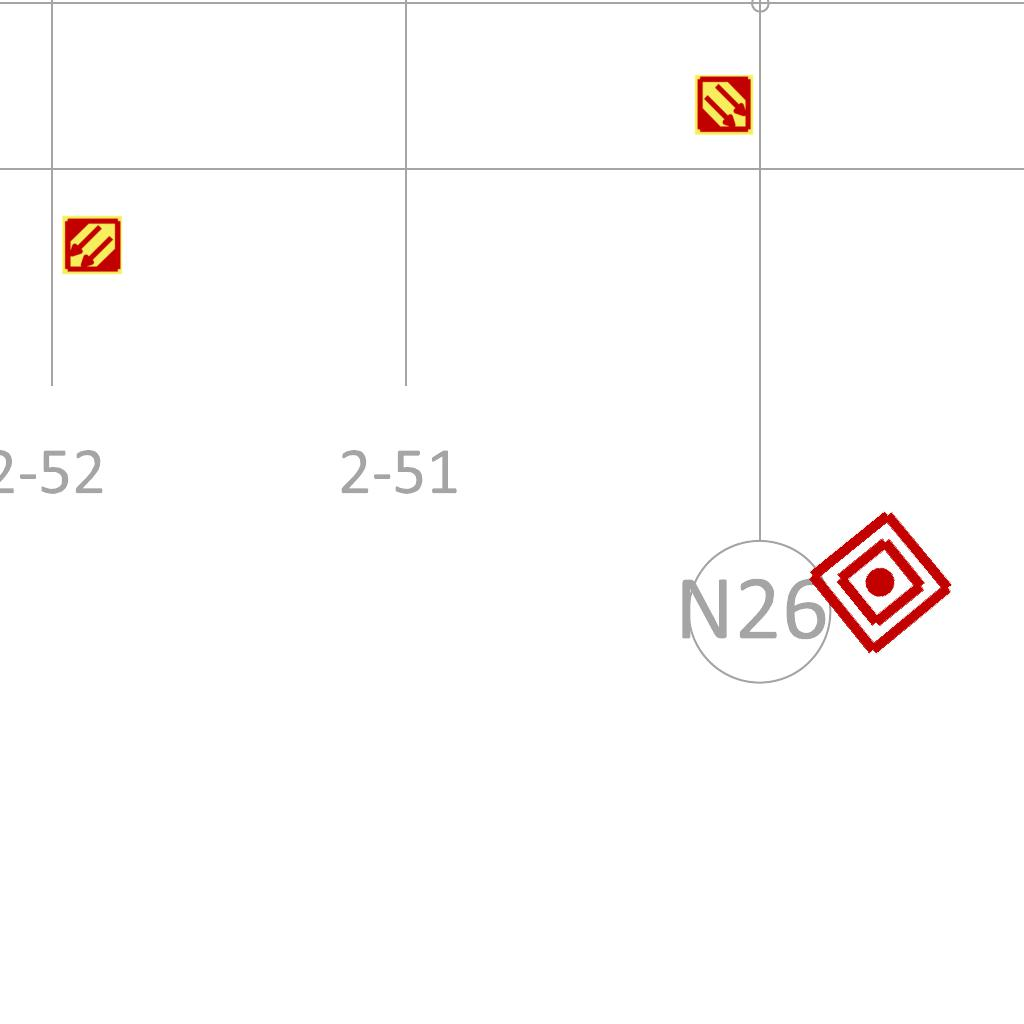ASR_Ansaugrauchmelder: (61, 214, 123, 276), (693, 74, 755, 136)
NAM-Nichtautomatischer_Melder: (801, 503, 960, 662)
